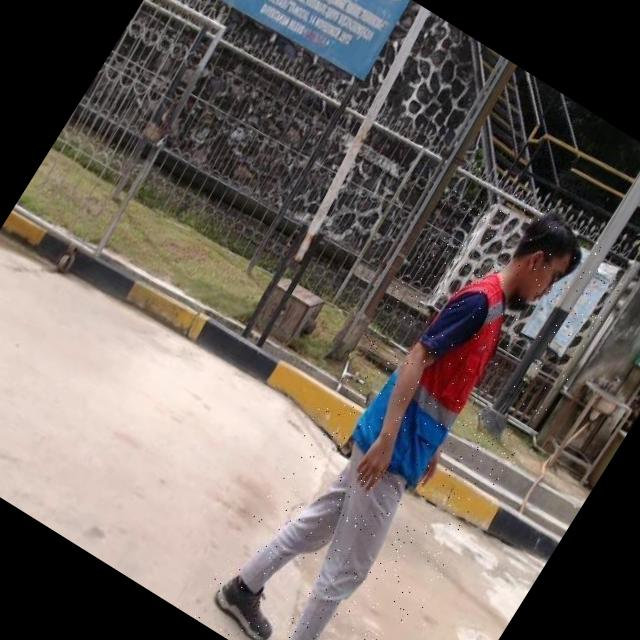safety_vest: (342, 250, 538, 492)
vehicle: (188, 158, 640, 640)
work_boots: (204, 569, 289, 640)
